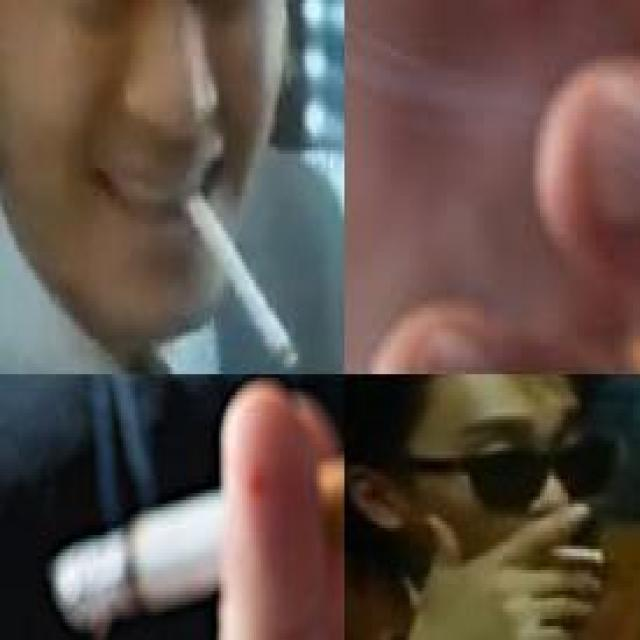smoking: (44, 434, 342, 636), (171, 174, 301, 372), (538, 544, 606, 562)
